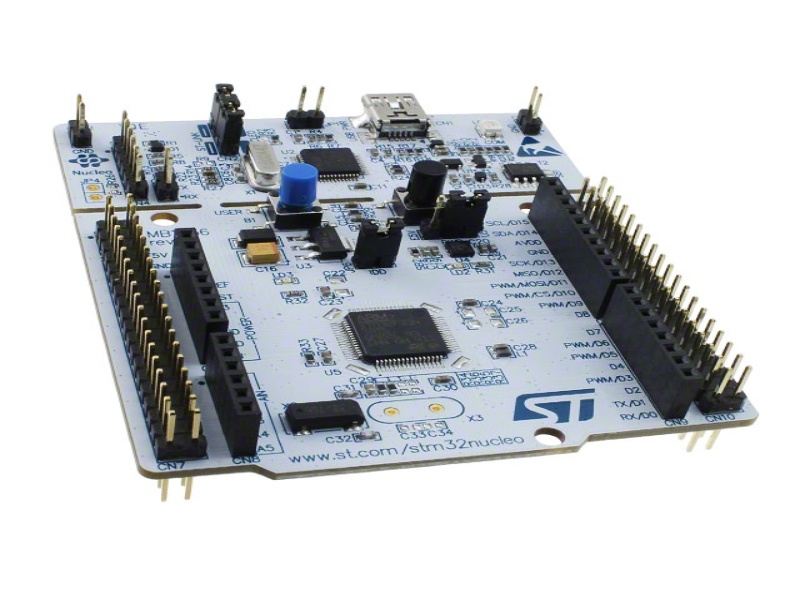stmnucleo: (52, 85, 775, 449)
